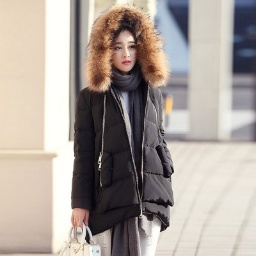face: (101, 23, 156, 85)
